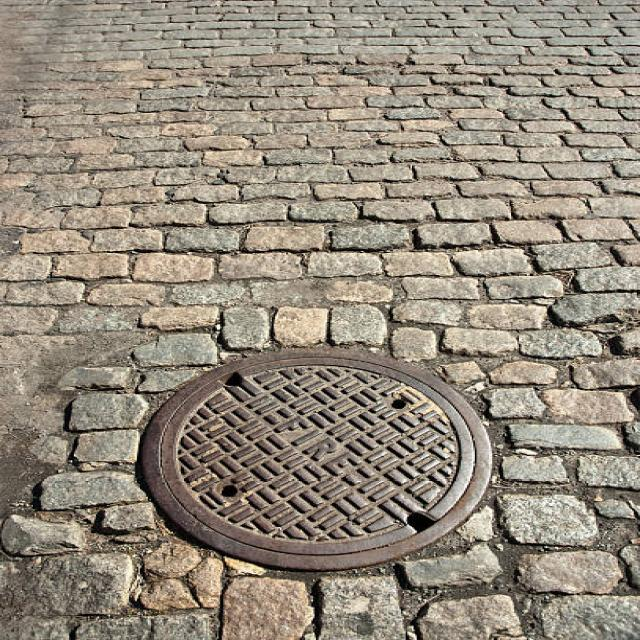Good: (131, 348, 504, 578)
